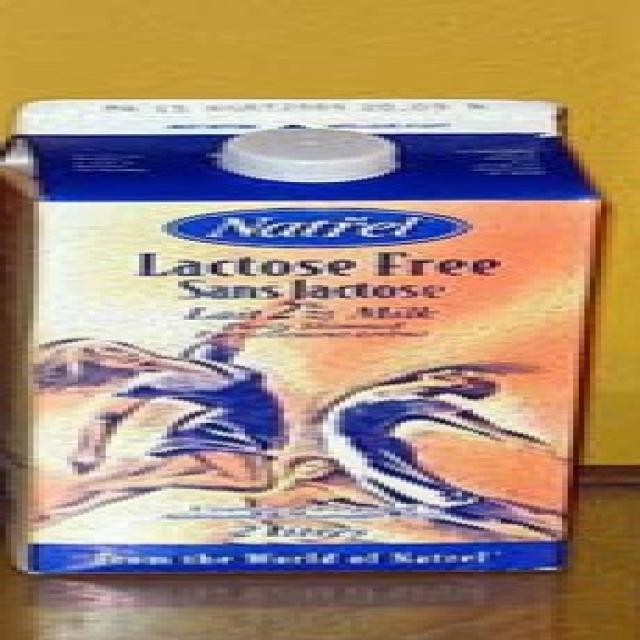drink carton: (0, 0, 640, 565)
